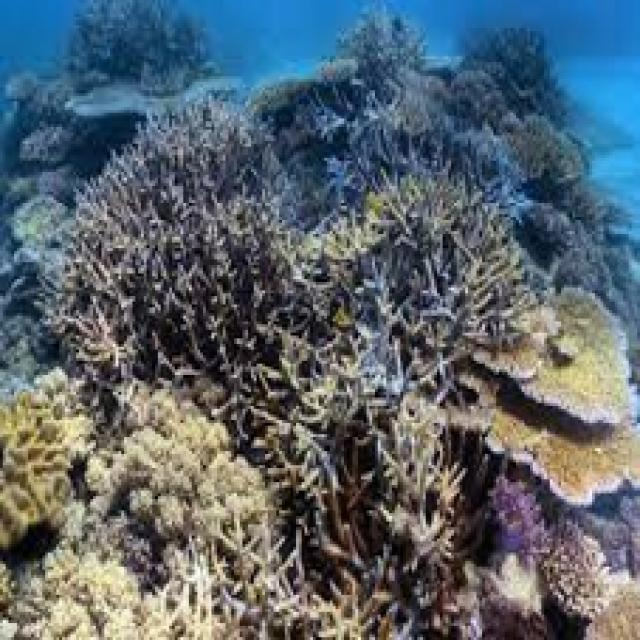Dead Coral: (21, 100, 282, 391), (317, 170, 522, 377), (272, 407, 472, 605)
